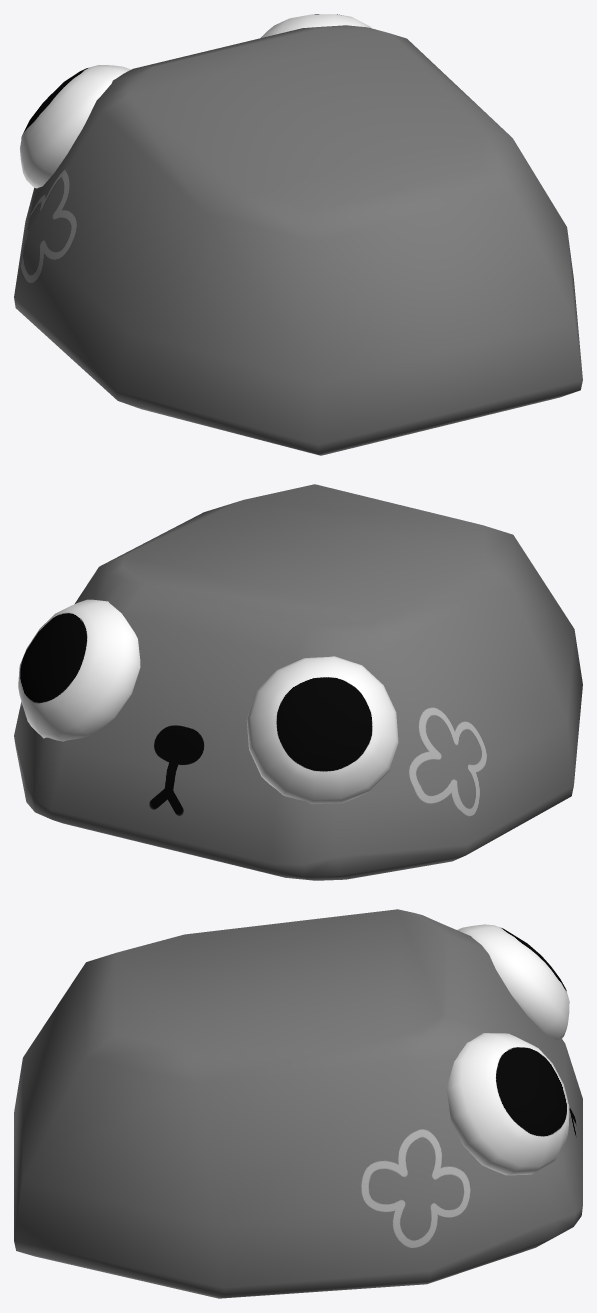
Rendered from Pebble.glb.
The picture shows the model from 3 angles, top to bottom: view 1: azimuth 30°, elevation 25°; view 2: azimuth 150°, elevation 25°; view 3: azimuth 270°, elevation 25°; orthographic projection.
Visible parts, largest first — view 1: Pebble Head; view 2: Pebble Head; view 3: Pebble Head.
Part boxes in pixels (left/top/right/bottom): Pebble Head: left=14, top=14, right=582, bottom=455; Pebble Head: left=14, top=484, right=582, bottom=880; Pebble Head: left=14, top=909, right=582, bottom=1298.
Size of the model in its own units: 2.81 by 1.34 by 3.05.
1 material, 1 textured.
